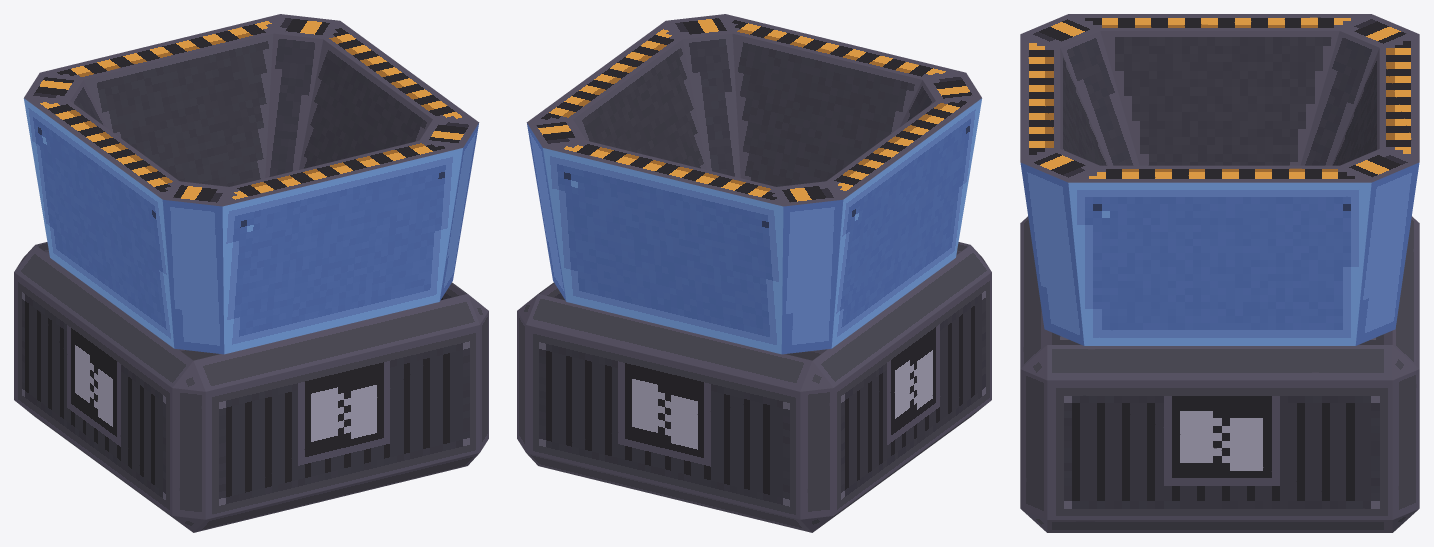
File: scrapper.glb
3 views of the same model, side by side, from view 1: azimuth 30°, elevation 25°; view 2: azimuth 150°, elevation 25°; view 3: azimuth 270°, elevation 25° (orthographic). The views are drawn at different scales.
Parts seen in each view (by area): view 1: scrapper_body; view 2: scrapper_body; view 3: scrapper_body.
Boxes of the visible parts, x1=… form: scrapper_body: x1=14, y1=14, x2=488, y2=532; scrapper_body: x1=517, y1=14, x2=991, y2=532; scrapper_body: x1=1020, y1=14, x2=1419, y2=532.
Bounding box in the file's own units: 1 × 1 × 1.
Materials: 1 (1 with a texture image).
